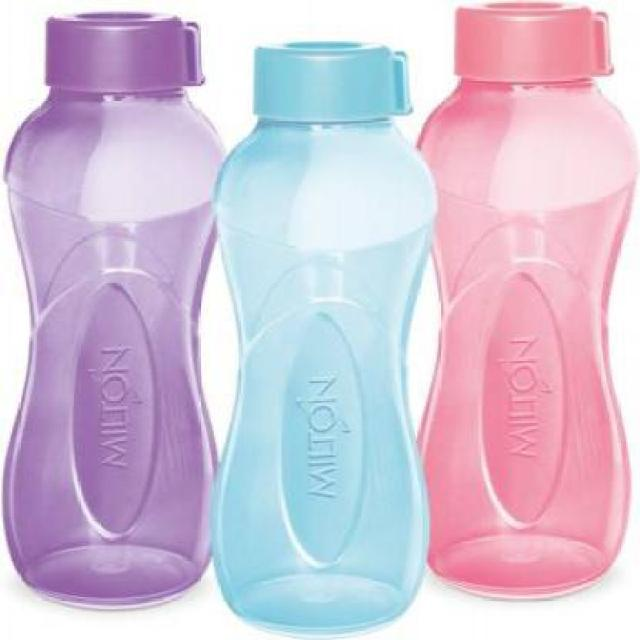Drinking: (0, 9, 232, 609), (211, 37, 426, 623), (434, 0, 628, 602)
